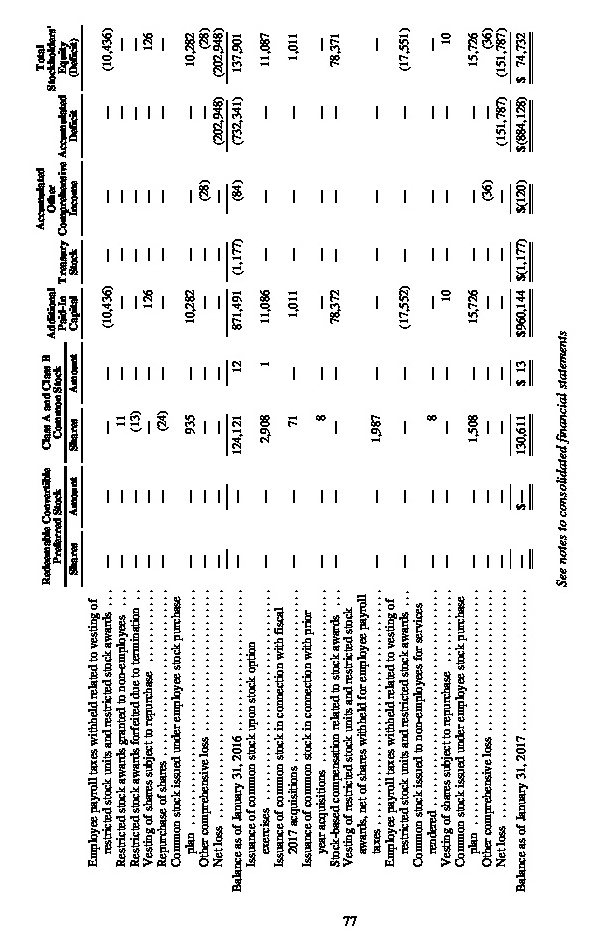table: (0, 0, 592, 937)
